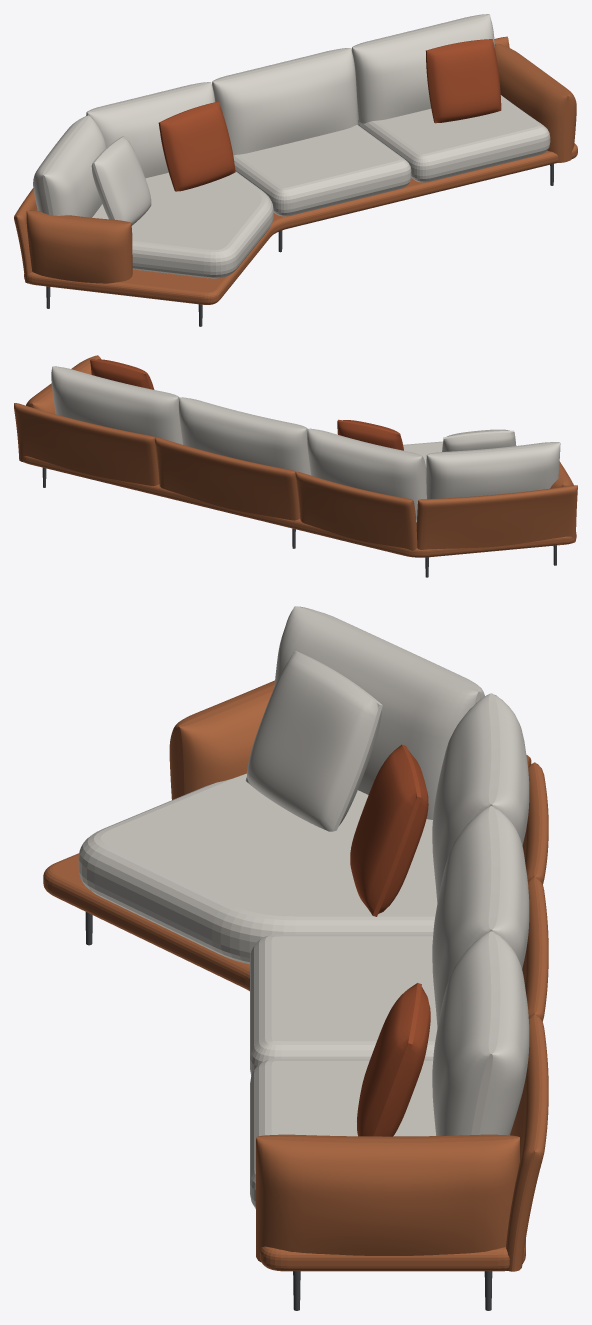
Rendered from getback-left.glb.
3 renders of one model, top to bottom at view 1: azimuth 30°, elevation 25°; view 2: azimuth 150°, elevation 25°; view 3: azimuth 270°, elevation 25°, orthographic. The views are drawn at different scales.
Visible parts, largest first — view 1: fabric, shell, pillow; view 2: shell, fabric, pillow, metal; view 3: fabric, shell, pillow.
Boxes of the visible parts, box(x1,y1,x2,y2) form: fabric: box(33, 14, 550, 278); shell: box(14, 36, 577, 304); pillow: box(158, 39, 501, 191); shell: box(14, 355, 577, 557); fabric: box(51, 366, 560, 522); pillow: box(90, 359, 403, 450); metal: box(42, 467, 556, 577); fabric: box(78, 606, 529, 1208); shell: box(43, 680, 548, 1271); pillow: box(350, 744, 430, 1136).
Size of the model in its own units: 3.81 by 0.8848 by 1.63.
